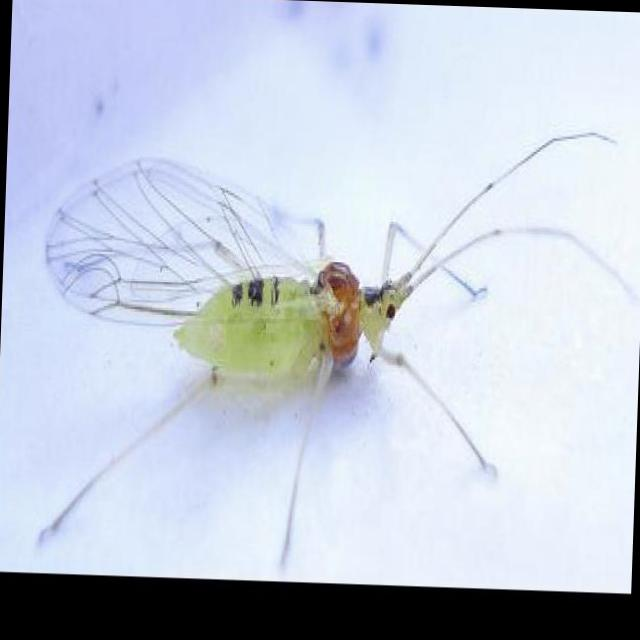aphid: (36, 133, 608, 518)
